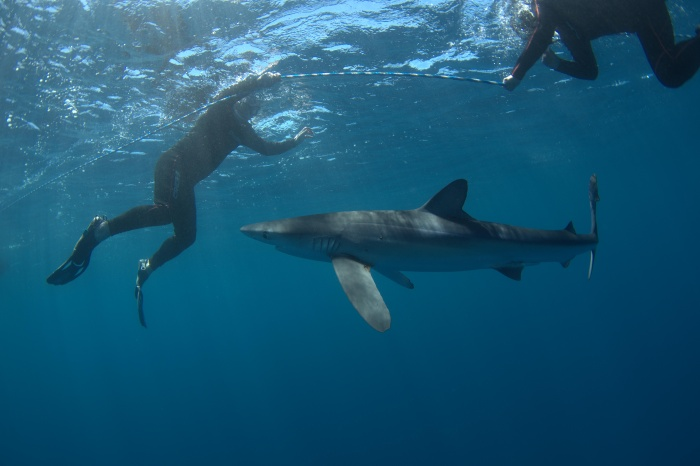Azul: (228, 167, 640, 347)
